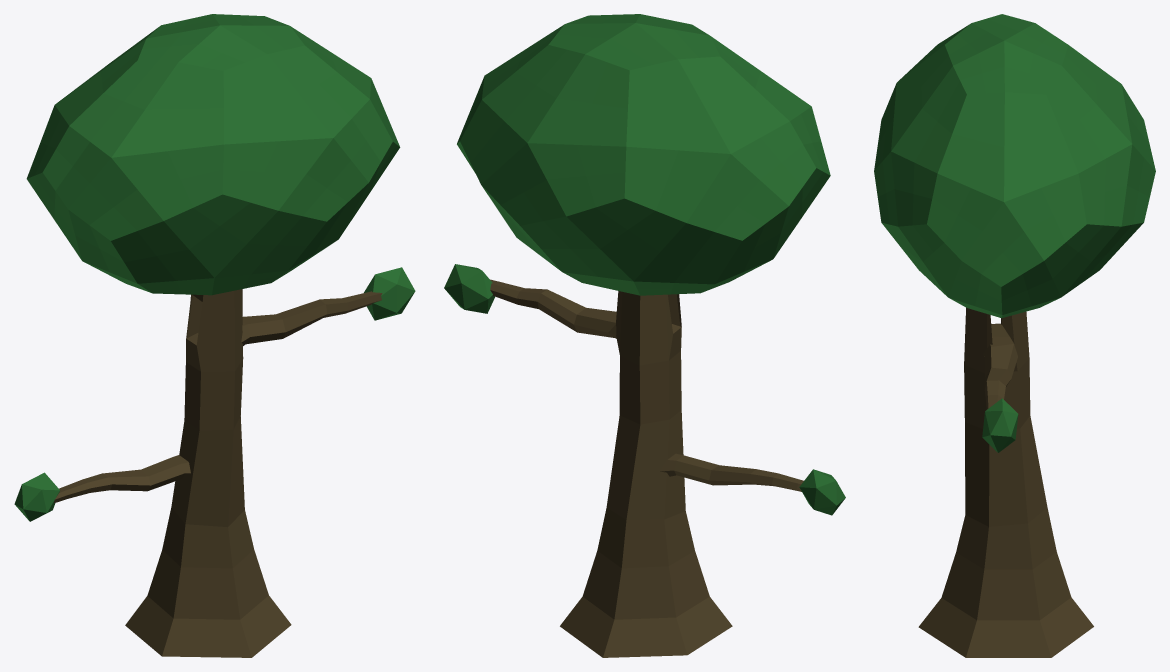
File: TreeDuckGameWithPassage.fbx
The picture shows the model from 3 angles, left to right: view 1: azimuth 30°, elevation 25°; view 2: azimuth 150°, elevation 25°; view 3: azimuth 270°, elevation 25°; orthographic projection.
Visible parts, largest first — view 1: Icosphere, Cylinder, Cylinder.001, Cylinder.002, Icosphere.002, Icosphere.001; view 2: Icosphere, Cylinder, Cylinder.001, Cylinder.002, Icosphere.002, Icosphere.001; view 3: Icosphere, Cylinder, Cylinder.001, Icosphere.002.
Boxes of the visible parts, box(x1,y1,x2,y2) form: Icosphere: box(26, 14, 400, 295); Cylinder: box(125, 289, 291, 657); Cylinder.001: box(186, 291, 382, 345); Cylinder.002: box(54, 455, 190, 502); Icosphere.002: box(364, 267, 415, 320); Icosphere.001: box(14, 472, 59, 521); Icosphere: box(457, 14, 830, 295); Cylinder: box(560, 291, 732, 657); Cylinder.001: box(490, 279, 680, 338); Cylinder.002: box(660, 453, 803, 491); Icosphere.002: box(444, 264, 494, 313); Icosphere.001: box(799, 469, 845, 515); Icosphere: box(874, 14, 1155, 318); Cylinder: box(918, 307, 1093, 657); Cylinder.001: box(982, 324, 1017, 409); Icosphere.002: box(982, 398, 1018, 452).
Size of the model in its own units: 1597 by 2330 by 1005.
